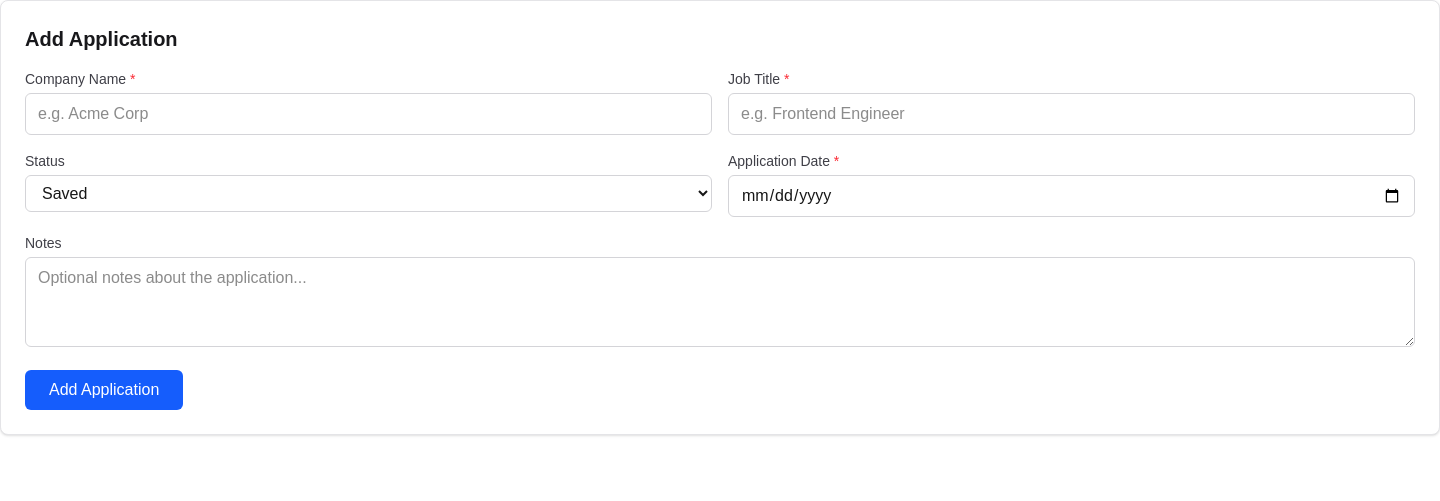
Test: JobApplicationForm › FORM 1: Required validation on empty submit
Click the button "Add Application".
click(104, 390)  # box x1=25 y1=370 x2=183 y2=410
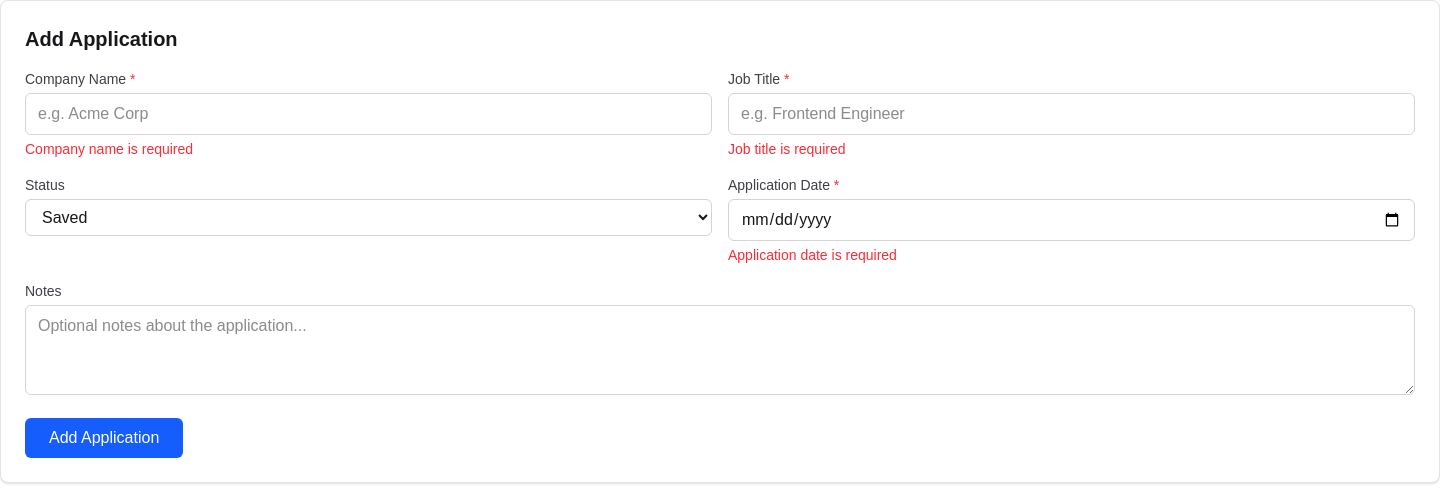
Now the text "Company name is required" is shown, box x1=25 y1=141 x2=193 y2=157
Now the text "Job title is required" is shown, box x1=728 y1=141 x2=846 y2=157
Now the text "Application date is required" is shown, box x1=728 y1=247 x2=897 y2=263
